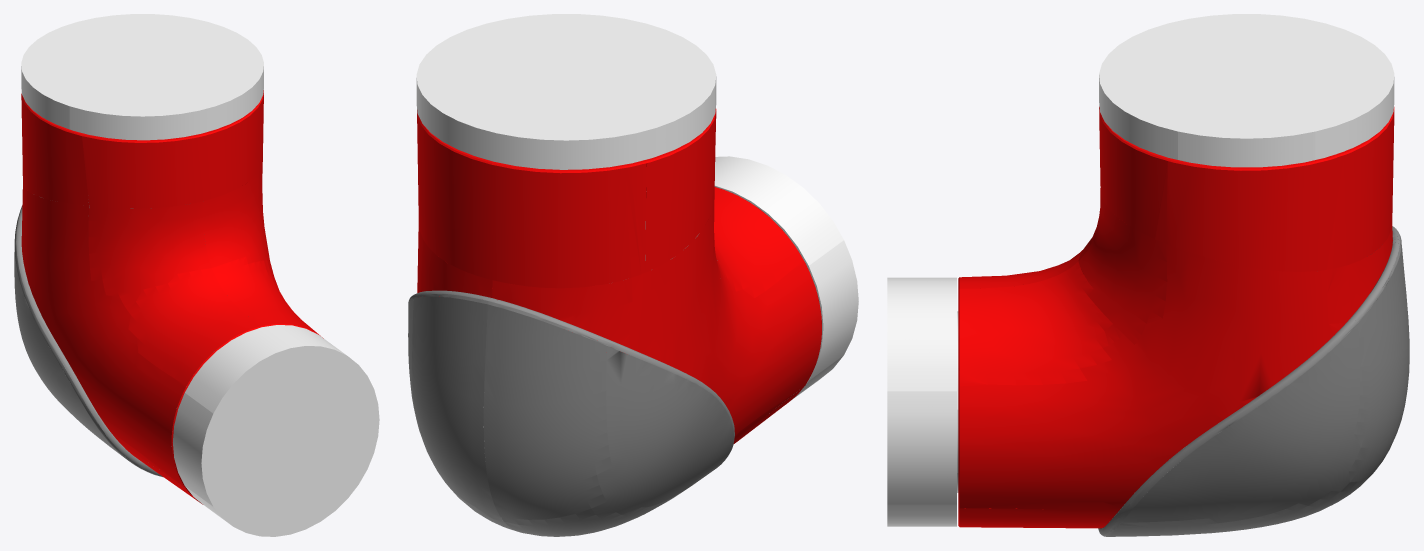
3 renders of one model, left to right at view 1: azimuth 30°, elevation 25°; view 2: azimuth 150°, elevation 25°; view 3: azimuth 270°, elevation 25°, orthographic. The views are drawn at different scales.
Visible parts, largest first — view 1: _3DGeom_31, _3DGeom_30, _3DGeom_29; view 2: _3DGeom_31, _3DGeom_29, _3DGeom_30; view 3: _3DGeom_31, _3DGeom_30, _3DGeom_29.
Boxes of the visible parts, box(x1,y1,x2,y2) form: _3DGeom_31: box(21, 90, 323, 504); _3DGeom_30: box(21, 14, 379, 536); _3DGeom_29: box(14, 197, 214, 477); _3DGeom_31: box(417, 109, 821, 443); _3DGeom_29: box(408, 290, 734, 536); _3DGeom_30: box(416, 14, 858, 400); _3DGeom_31: box(958, 106, 1394, 528); _3DGeom_30: box(887, 14, 1394, 526); _3DGeom_29: box(1098, 226, 1409, 536).
Size of the model in its own units: 0.1084 by 0.1838 by 0.1739.
